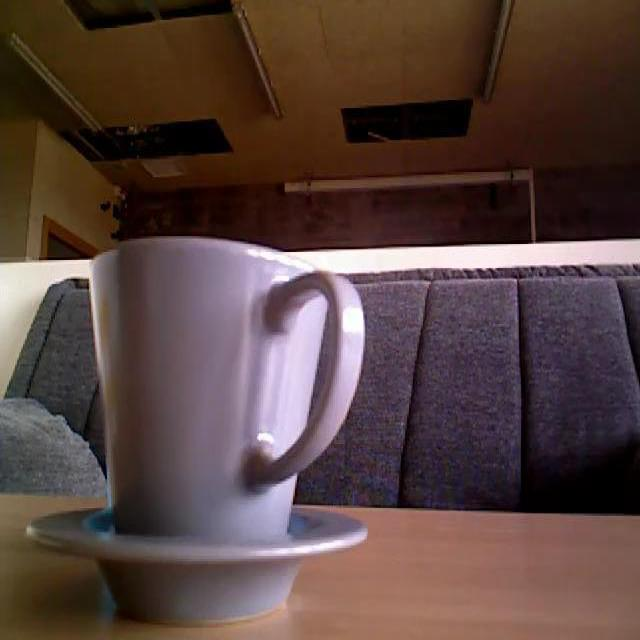cup: (28, 231, 376, 622)
